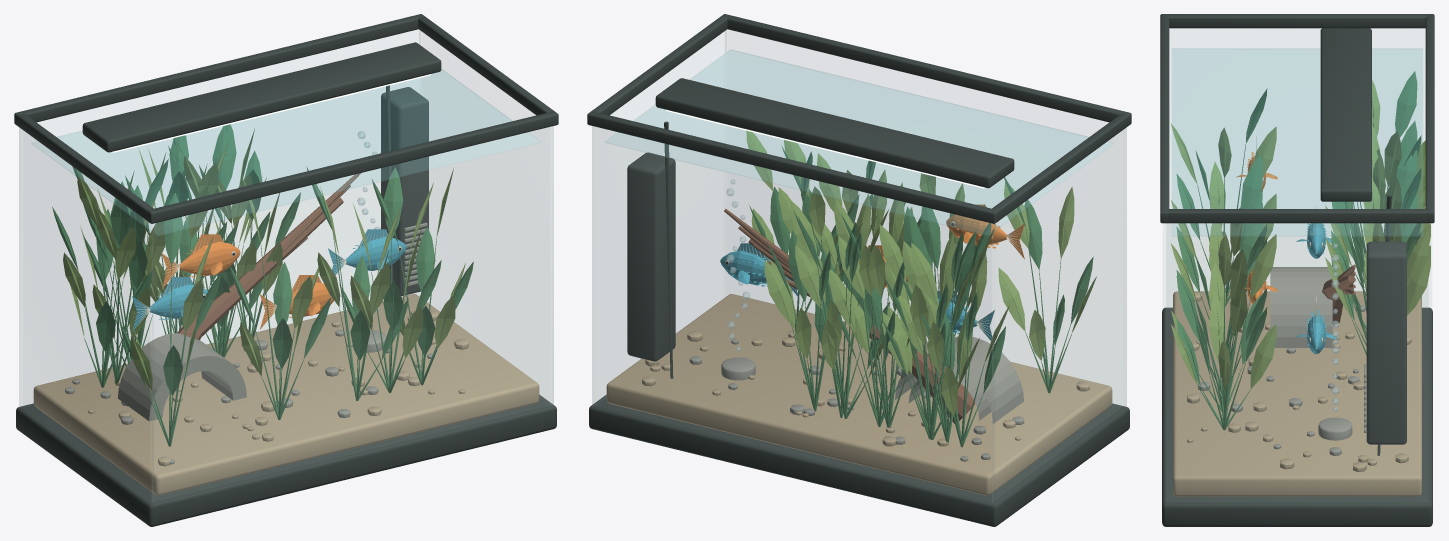
File: desktop-aquarium.glb
3 renders of one model, left to right at view 1: azimuth 30°, elevation 25°; view 2: azimuth 150°, elevation 25°; view 3: azimuth 270°, elevation 25°, orthographic.
Parts seen in each view (by area): view 1: desktop-aquarium, aquarium_fish_3, aquarium_fish_2, aquarium_fish_0, aquarium_fish_1; view 2: desktop-aquarium, aquarium_fish_2, aquarium_fish_3; view 3: desktop-aquarium, aquarium_fish_2, aquarium_fish_0.
Part boxes in pixels (x1,y1,x2,y2): desktop-aquarium: (14,14,558,526); aquarium_fish_3: (179,234,240,277); aquarium_fish_2: (345,229,406,270); aquarium_fish_0: (149,277,207,319); aquarium_fish_1: (289,275,333,317); desktop-aquarium: (587,14,1131,526); aquarium_fish_2: (720,243,771,286); aquarium_fish_3: (946,204,1006,248); desktop-aquarium: (1160,14,1434,526); aquarium_fish_2: (1295,303,1337,354); aquarium_fish_0: (1296,207,1331,258).
Size of the model in its own units: 0.6 by 0.45 by 0.35.
